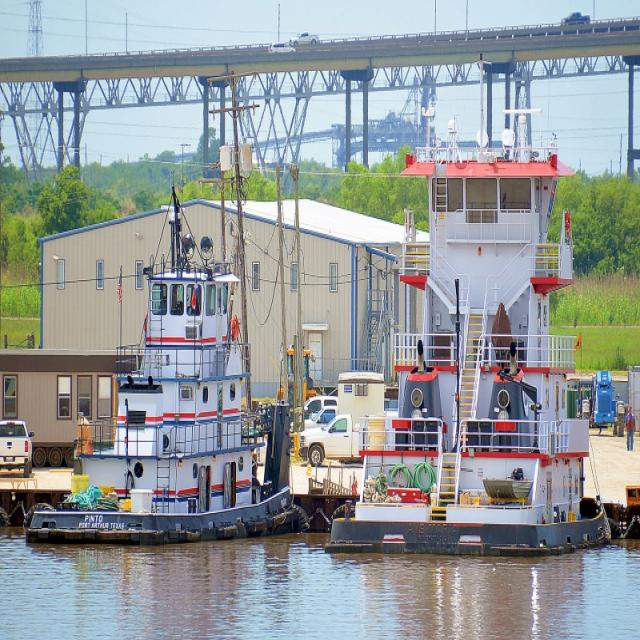tugboat: (323, 105, 614, 568), (23, 220, 295, 554)
